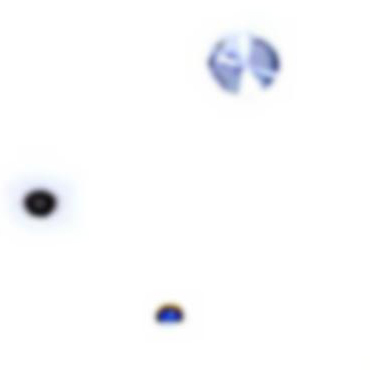abnormal: (194, 7, 300, 111)
cancer: (1, 161, 90, 246)
normal: (136, 288, 199, 339)
